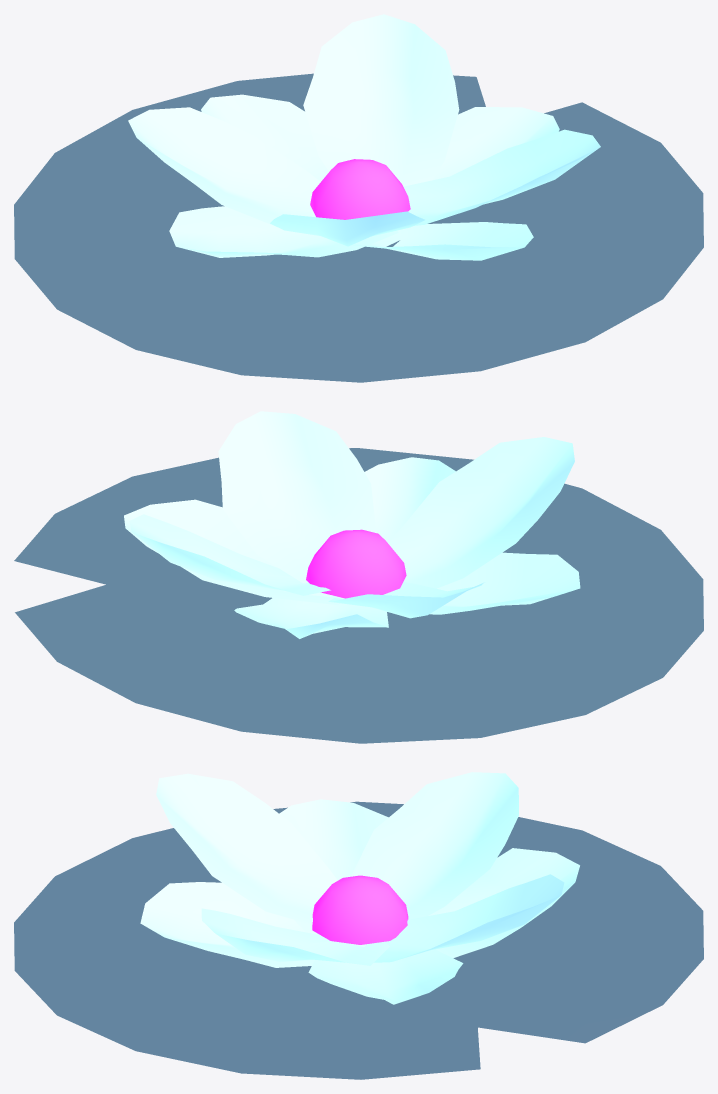
Rendered from LilyPad_AD.fbx.
The picture shows the model from 3 angles, top to bottom: view 1: azimuth 30°, elevation 25°; view 2: azimuth 150°, elevation 25°; view 3: azimuth 270°, elevation 25°; orthographic projection.
Parts seen in each view (by area): view 1: LilyPad_AD; view 2: LilyPad_AD; view 3: LilyPad_AD.
Boxes of the visible parts, <box> form: LilyPad_AD: <box>14,14,703,382</box>; LilyPad_AD: <box>14,411,703,743</box>; LilyPad_AD: <box>14,772,703,1079</box>.
Bounding box in the file's own units: 39.2 × 39.75 × 7.34.
